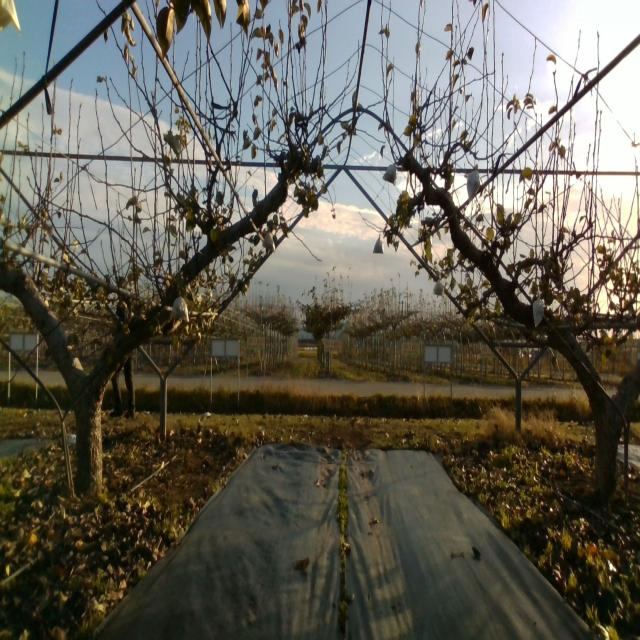pearbags: (171, 293, 189, 322), (466, 168, 480, 202), (532, 297, 544, 328), (262, 230, 276, 253), (382, 163, 397, 184), (432, 278, 445, 298), (372, 234, 383, 253)
